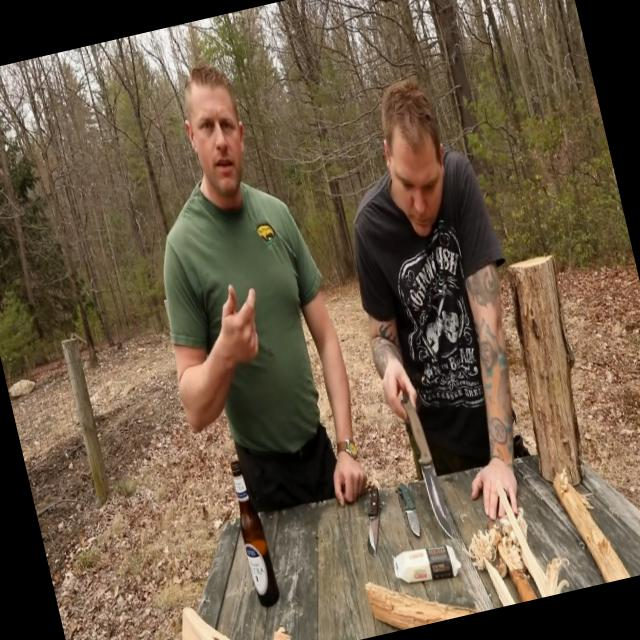knife: (382, 363, 461, 545)
